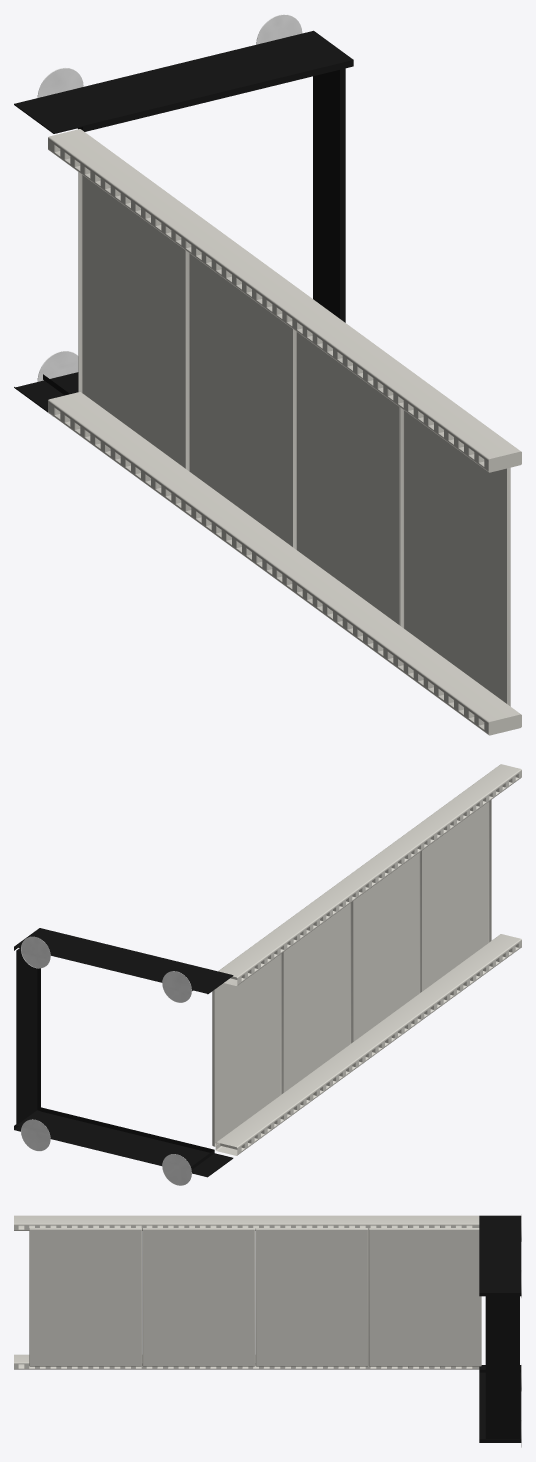
Rendered from ShelvesBase06.obj.
The picture shows the model from 3 angles, top to bottom: view 1: azimuth 30°, elevation 25°; view 2: azimuth 150°, elevation 25°; view 3: azimuth 270°, elevation 25°; orthographic projection. The views are drawn at different scales.
Visible parts, largest first — view 1: ShelvesBase06; view 2: ShelvesBase06; view 3: ShelvesBase06.
Boxes of the visible parts, x1,y1,x2,y2 form: ShelvesBase06: [14, 14, 521, 735]; ShelvesBase06: [14, 764, 521, 1185]; ShelvesBase06: [14, 1214, 521, 1447].
Bounding box in the file's own units: 0.7323 × 0.7577 × 2.
Materials: 3 (1 with a texture image).
